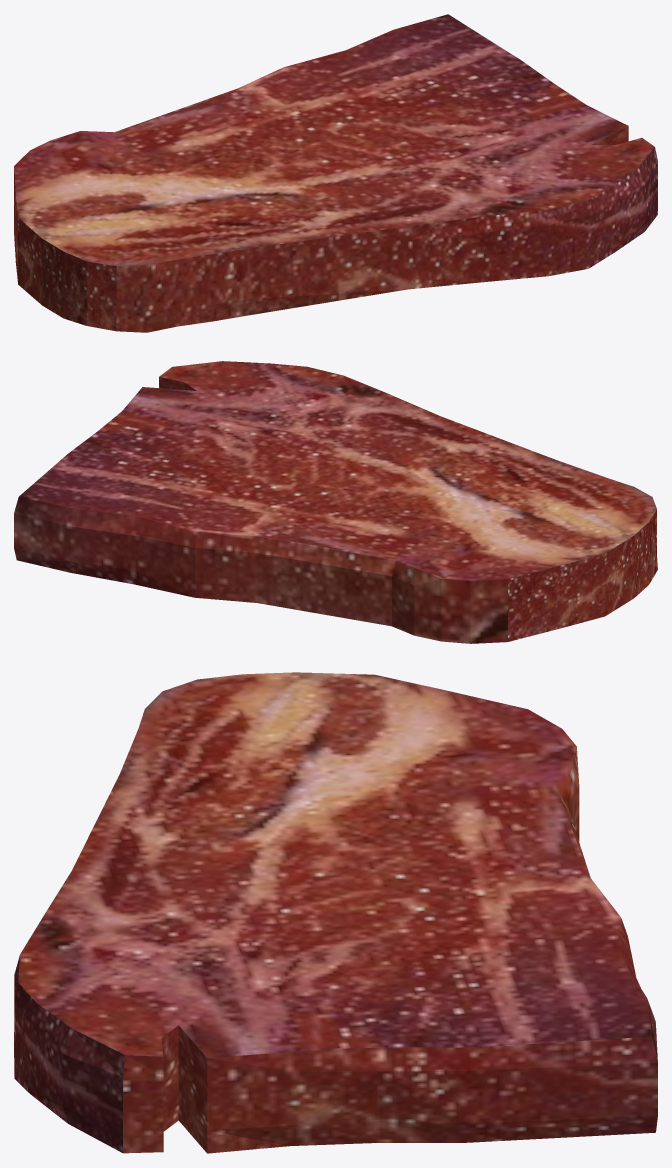
File: carne3.obj
3 views of the same model, one above another, from view 1: azimuth 30°, elevation 25°; view 2: azimuth 150°, elevation 25°; view 3: azimuth 270°, elevation 25° (orthographic). The views are drawn at different scales.
Bounding box in the file's own units: 8.22 × 1.02 × 5.8.
1 material, 1 textured.
